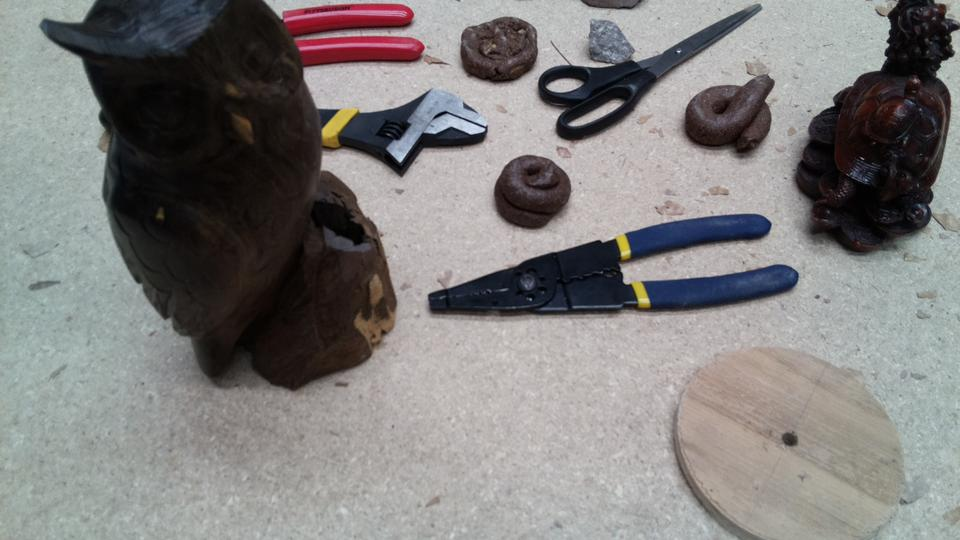poop: (682, 73, 778, 155), (491, 149, 573, 233), (458, 15, 541, 84)
